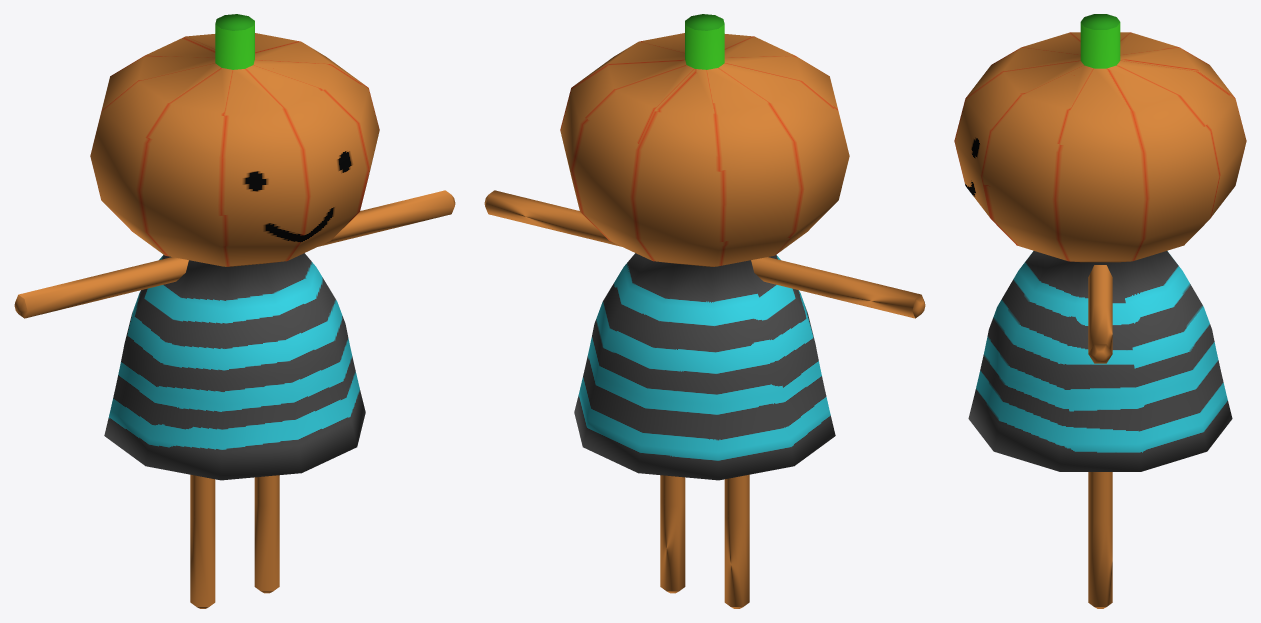
The model's file is Wani_forAR.obj.
The picture shows the model from 3 angles, left to right: view 1: azimuth 30°, elevation 25°; view 2: azimuth 150°, elevation 25°; view 3: azimuth 270°, elevation 25°; orthographic projection.
Visible parts, largest first — view 1: Body_球.001; view 2: Body_球.001; view 3: Body_球.001.
Part boxes in pixels (x1=…): Body_球.001: x1=14, y1=14, x2=455, y2=608; Body_球.001: x1=484, y1=14, x2=925, y2=608; Body_球.001: x1=954, y1=14, x2=1246, y2=608.
Bounding box in the file's own units: 0.9489 × 1.2 × 0.5584.
Materials: 1 (1 with a texture image).
